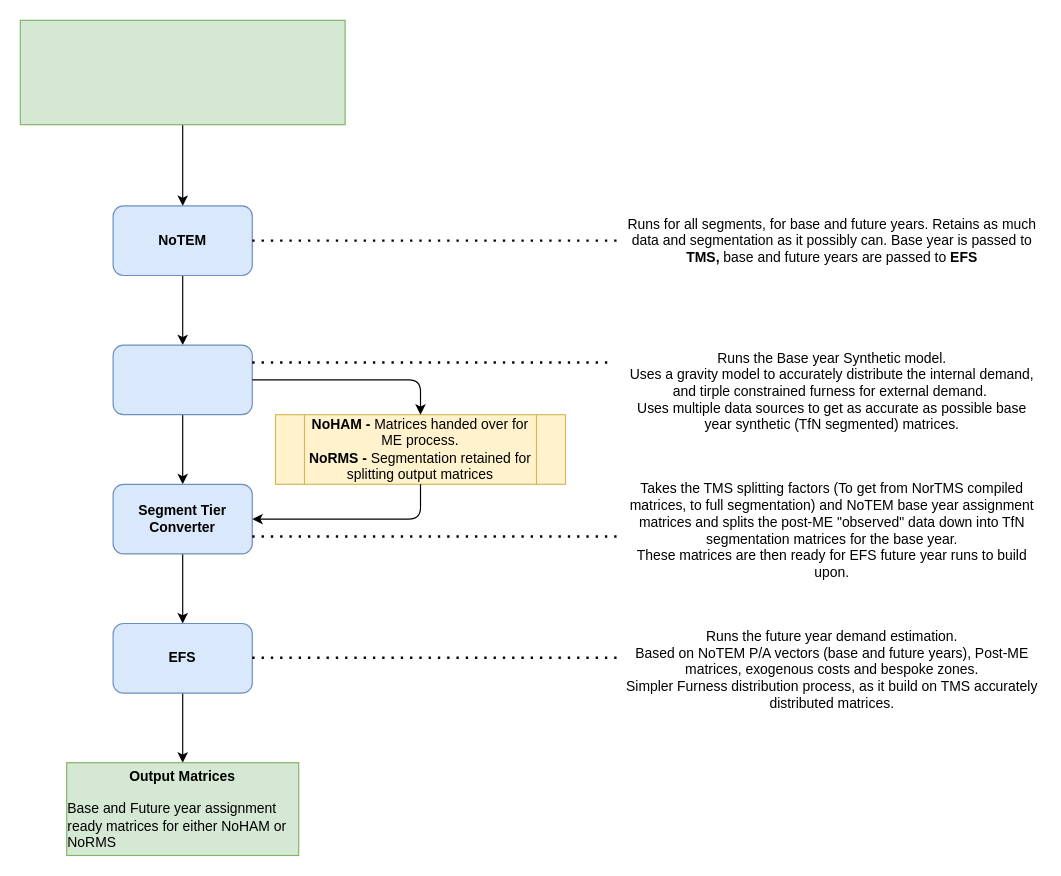
The diagram is 1061 pixels wide and 876 high, and some of its shapes have lost their labels. Here are the shapes that lost their labels. From the top down, the centre of each, then its label:
At [182,72]: "CONSTRUCTOR Validates args Checks what has already been done / needs doing".
At [182,379]: "TMS".
